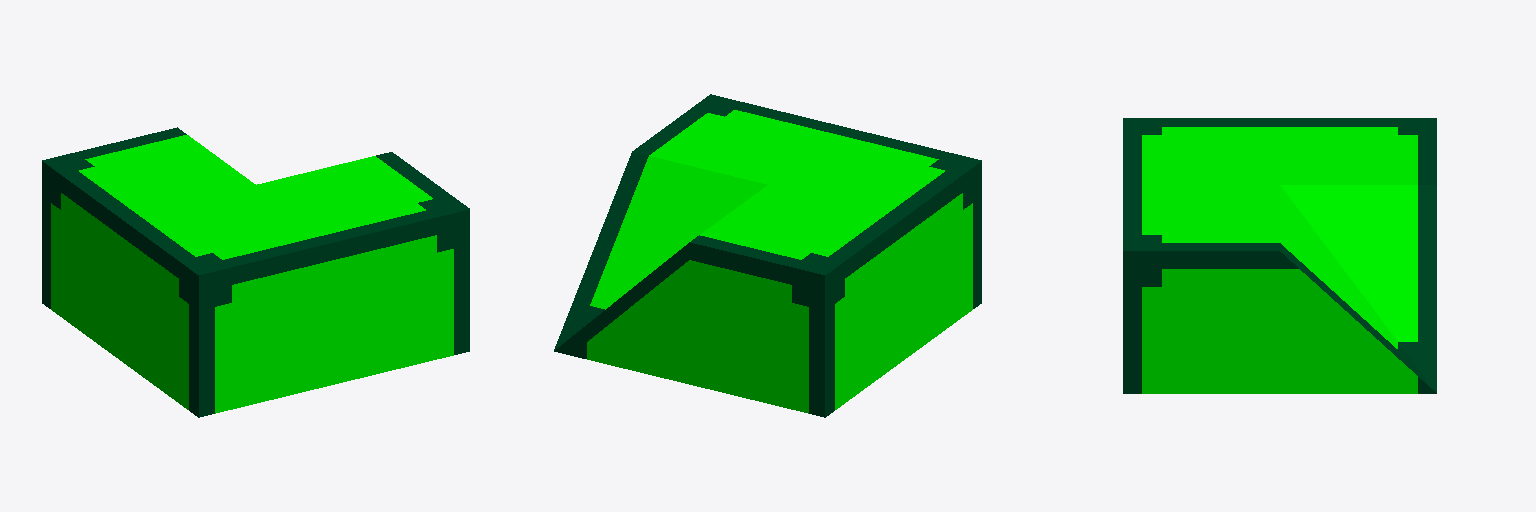
The picture shows the model from 3 angles: view 1: azimuth 30°, elevation 25°; view 2: azimuth 150°, elevation 25°; view 3: azimuth 270°, elevation 25°; orthographic projection.
Parts seen in each view (by area): view 1: 11_green; view 2: 11_green; view 3: 11_green.
Part boxes in pixels (x1,y1,x2,y2): 11_green: (42, 127, 469, 417); 11_green: (554, 94, 981, 417); 11_green: (1123, 118, 1436, 393).
Bounding box in the file's own units: 1 × 0.5 × 1.
1 materials, 1 textured.